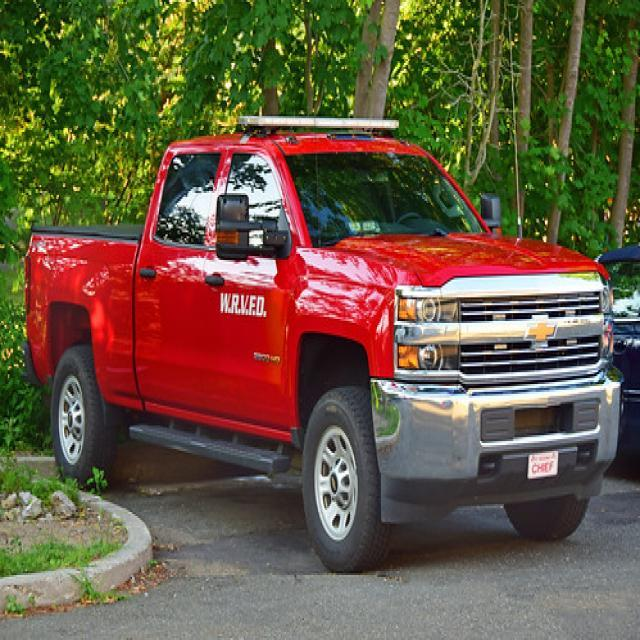Chevrolet: (524, 318, 558, 348)
